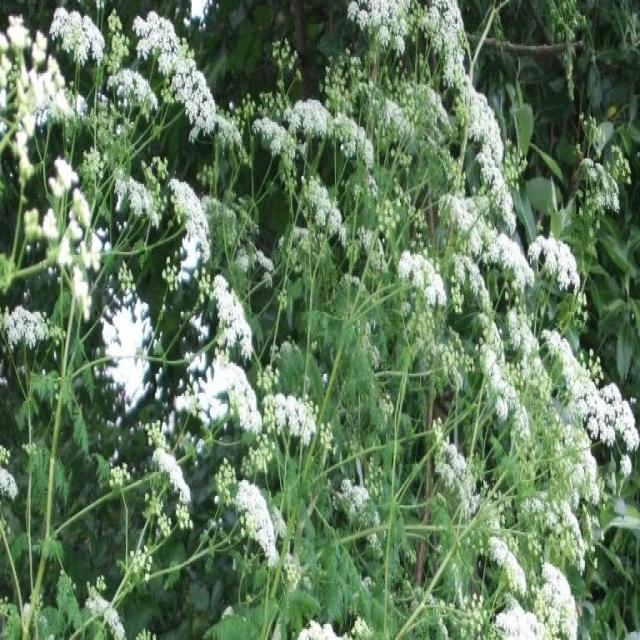Poisonous-Hemlock: (282, 1, 639, 640), (23, 0, 281, 640)
